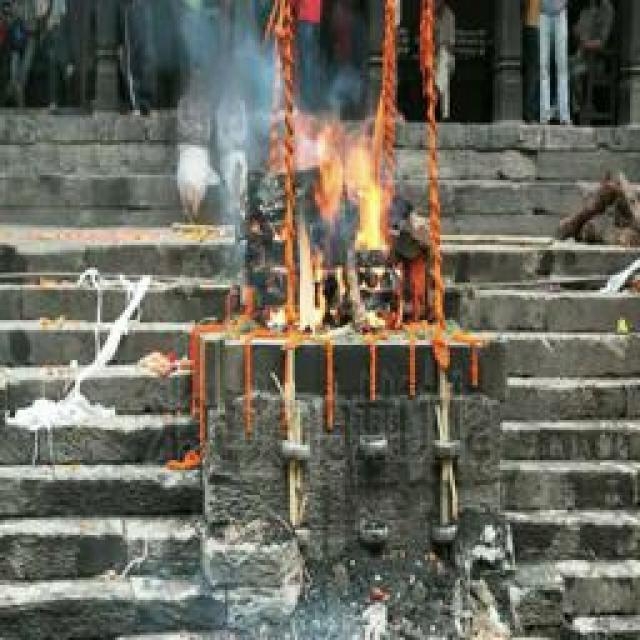Fire: (294, 120, 399, 336)
